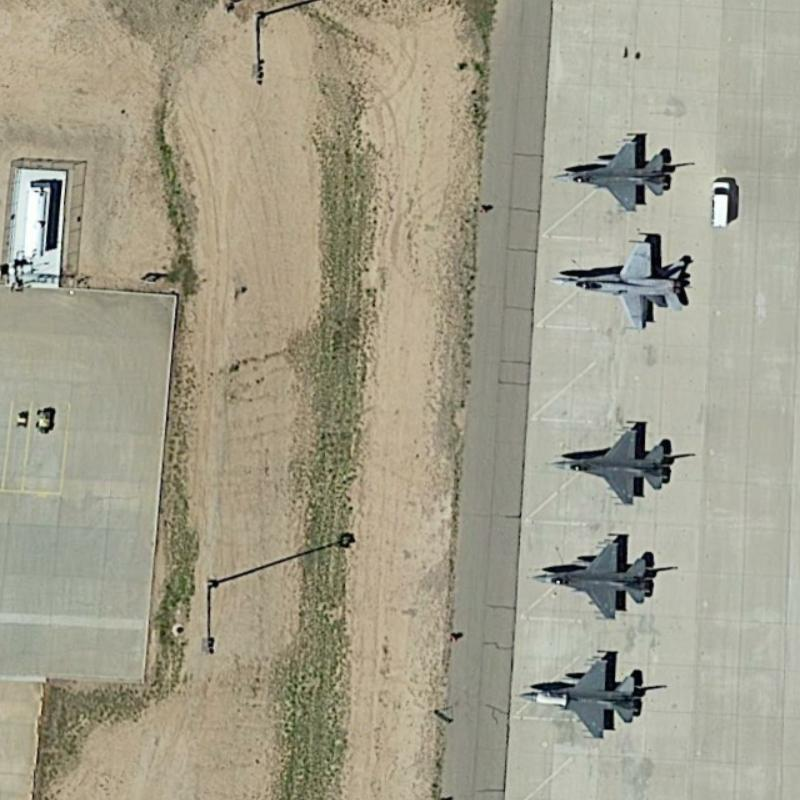A16: (546, 229, 694, 332)
A5: (544, 410, 686, 514), (549, 119, 674, 224), (514, 649, 653, 740), (529, 531, 665, 622)
